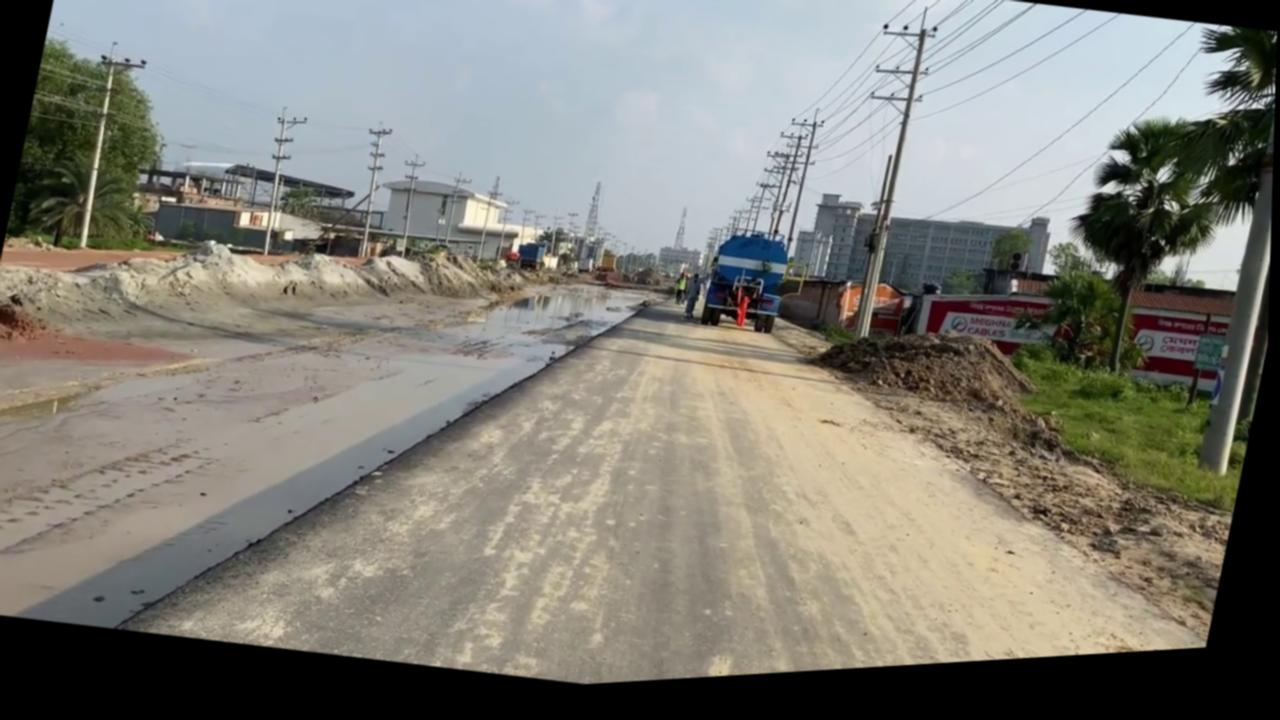Garbage: (805, 313, 1050, 438)
Light-pole: (62, 39, 149, 254)
Pole: (1196, 48, 1277, 495), (854, 18, 939, 353)
Rickshaw: (114, 187, 1268, 714)
Sidewalk: (0, 178, 663, 716)
Stuck-water: (735, 303, 753, 337)
Traffic-sign: (1039, 112, 1240, 404)
Tree: (696, 103, 829, 348), (698, 232, 798, 347), (832, 282, 913, 352)
